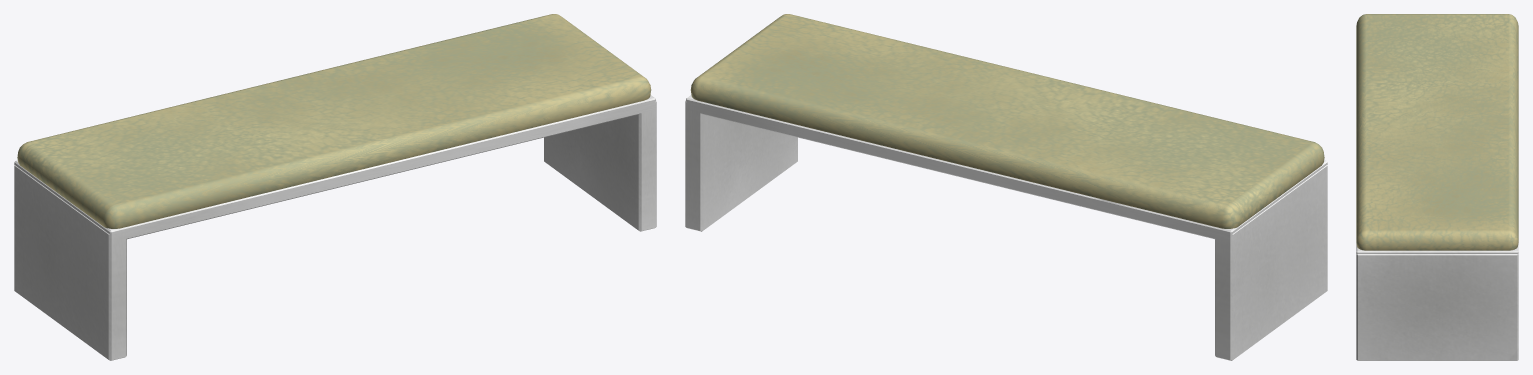
File: bench.fbx
3 views of the same model, side by side, from view 1: azimuth 30°, elevation 25°; view 2: azimuth 150°, elevation 25°; view 3: azimuth 270°, elevation 25° (orthographic). The views are drawn at different scales.
Parts seen in each view (by area): view 1: pCube6; view 2: pCube6; view 3: pCube6.
Boxes of the visible parts, x1,y1,x2,y2 form: pCube6: [14, 14, 656, 360]; pCube6: [685, 14, 1327, 360]; pCube6: [1356, 14, 1518, 360].
Bounding box in the file's own units: 170 × 44.68 × 52.
